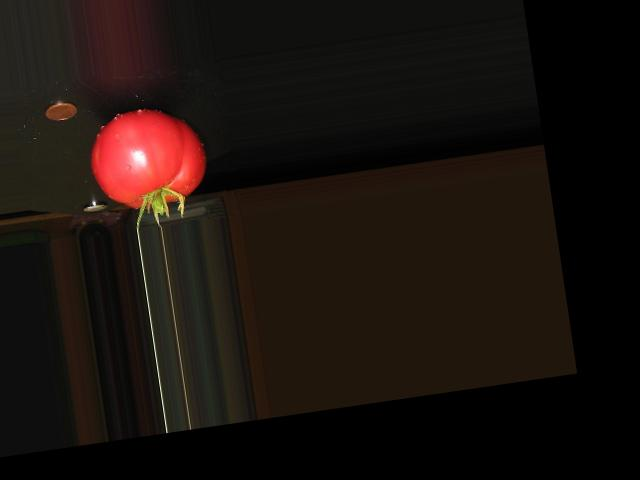tomato: (85, 100, 212, 214)
